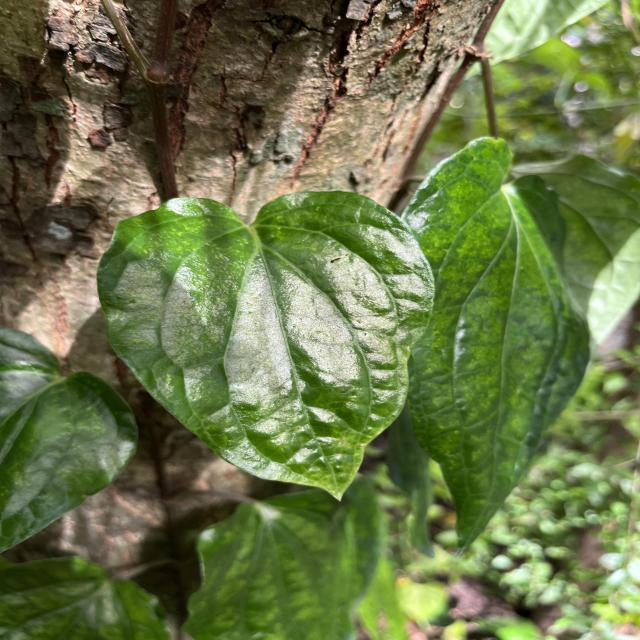Piper betle: (91, 187, 440, 505)
